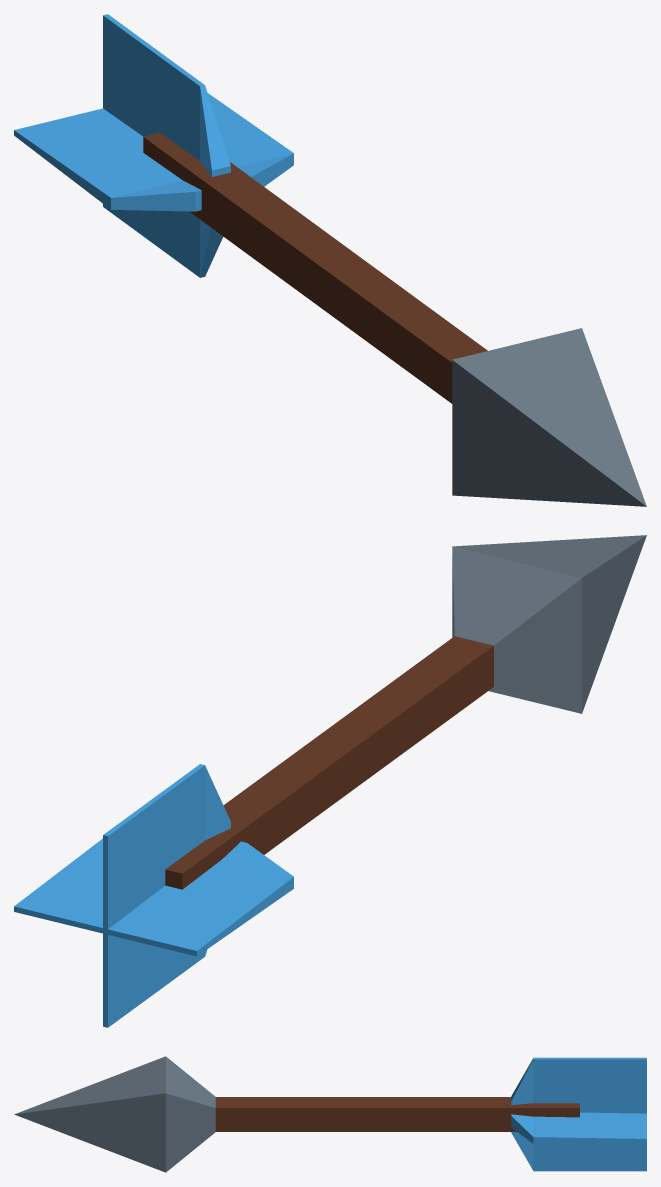
The model's file is arrow.fbx.
3 renders of one model, top to bottom at view 1: azimuth 30°, elevation 25°; view 2: azimuth 150°, elevation 25°; view 3: azimuth 270°, elevation 25°, orthographic. The views are drawn at different scales.
Parts seen in each view (by area): view 1: arrow; view 2: arrow; view 3: arrow.
Boxes of the visible parts, x1,y1,x2,y2 form: arrow: (14,14,646,506); arrow: (14,535,646,1027); arrow: (14,1056,646,1172).
Size of the model in its own units: 0.5432 by 0.5432 by 2.78.
